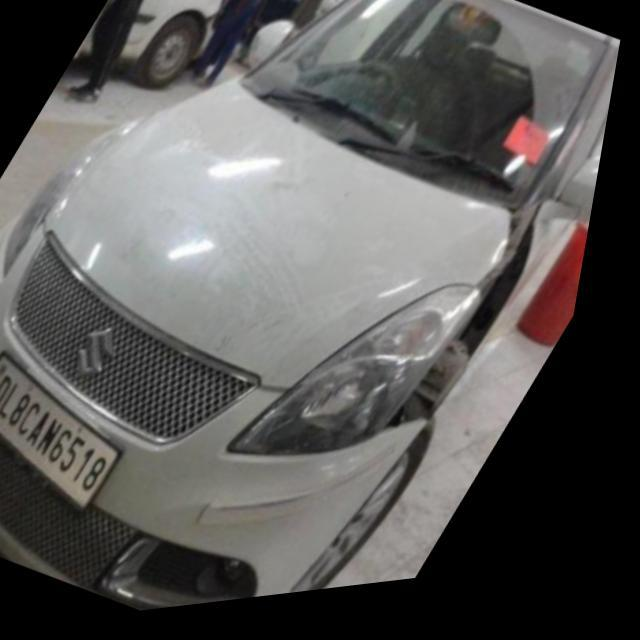dislocated part: (405, 225, 549, 436)
